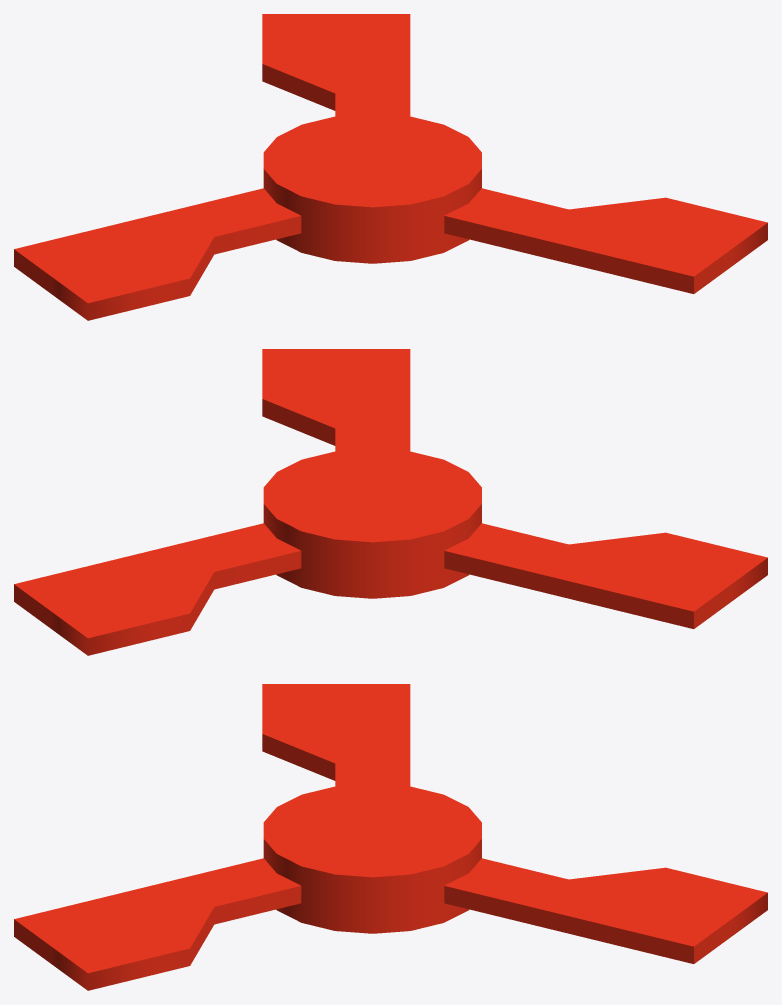
The model's file is RTS_Drone_left_wing_prop.fbx.
The picture shows the model from 3 angles, top to bottom: view 1: azimuth 30°, elevation 25°; view 2: azimuth 150°, elevation 25°; view 3: azimuth 270°, elevation 25°; orthographic projection.
Visible parts, largest first — view 1: left_wing_prop; view 2: left_wing_prop; view 3: left_wing_prop.
Boxes of the visible parts, <box> form: left_wing_prop: <box>14,14,767,320</box>; left_wing_prop: <box>14,349,767,655</box>; left_wing_prop: <box>14,684,767,990</box>.
Bounding box in the file's own units: 1.47 × 0.1339 × 1.62.
